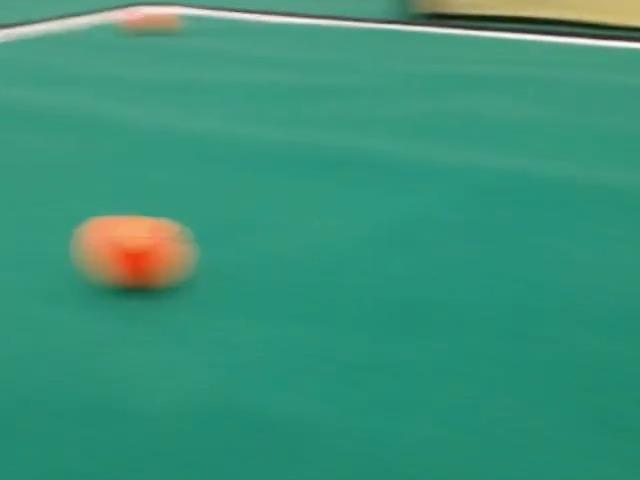Ball: (71, 216, 196, 289), (117, 9, 180, 33)
